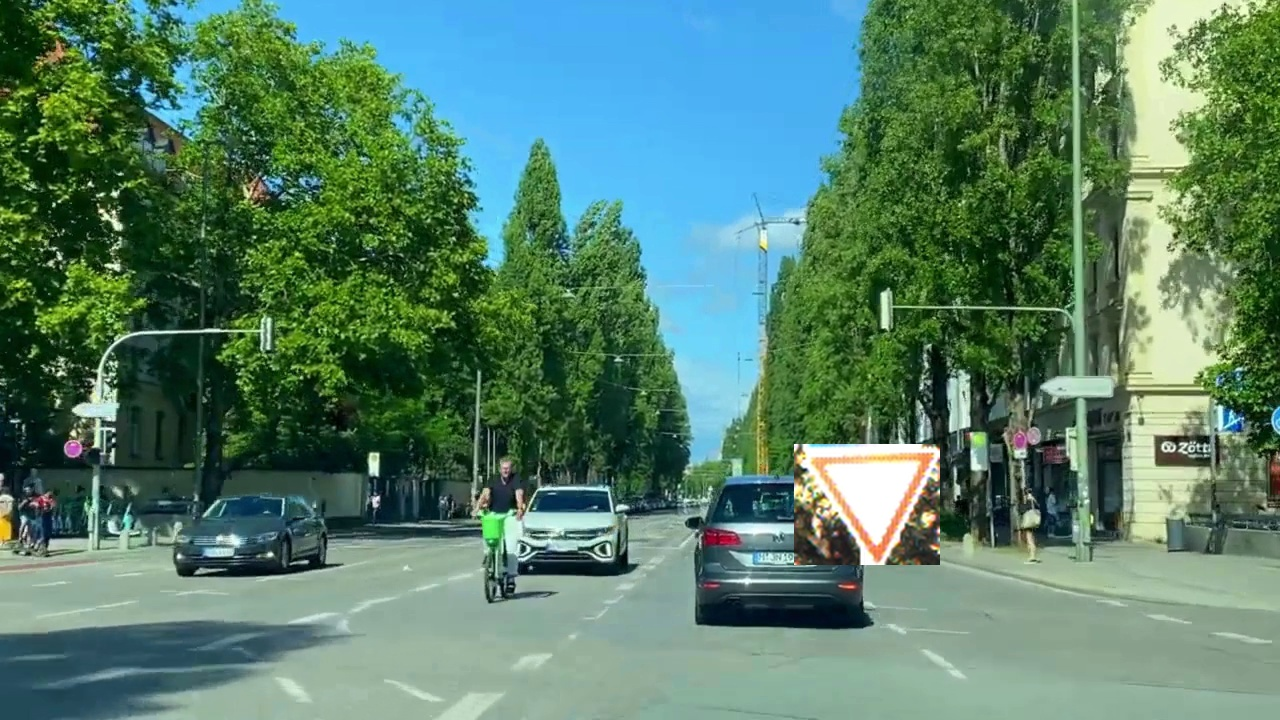Yield: (794, 444, 940, 565)
